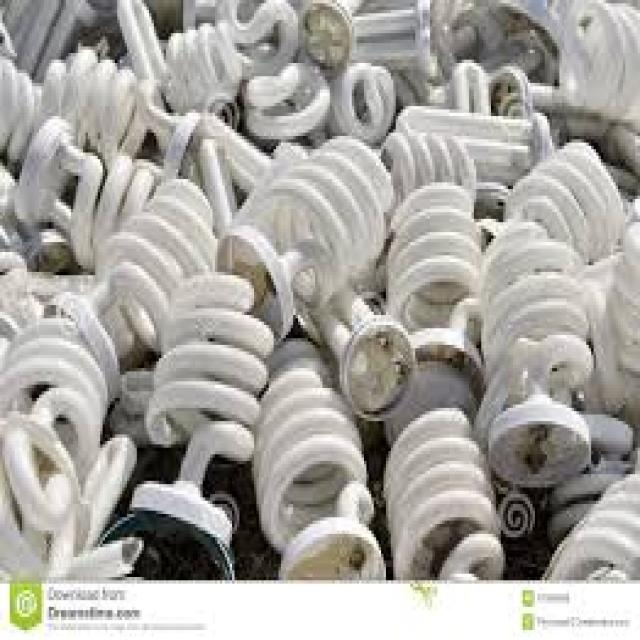Hazard: (9, 28, 640, 581)
